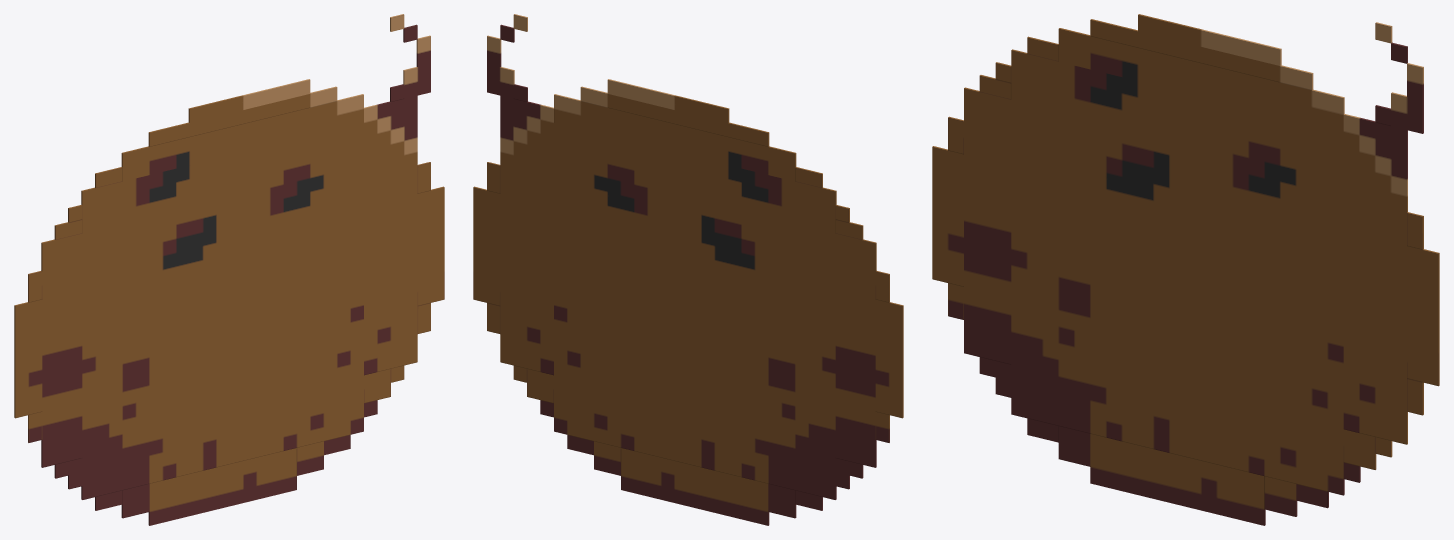
Rendered from Coconut.dae.
3 renders of one model, left to right at view 1: azimuth 30°, elevation 25°; view 2: azimuth 150°, elevation 25°; view 3: azimuth 330°, elevation 25°, orthographic. The views are drawn at different scales.
Parts seen in each view (by area): view 1: water-block-local; view 2: water-block-local; view 3: water-block-local.
Boxes of the visible parts, box(x1,y1,x2,y2) form: water-block-local: box(14, 14, 444, 525); water-block-local: box(473, 14, 903, 525); water-block-local: box(932, 14, 1439, 525).
Size of the model in its own units: 256 by 256 by 1.
1 material, 1 textured.
